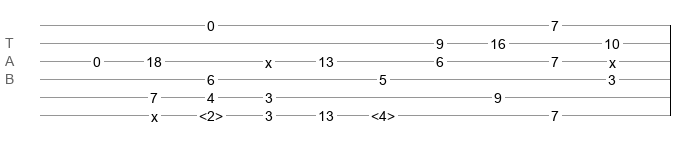0: (93, 54, 101, 64), (207, 18, 215, 28)
10: (604, 36, 620, 46)
13: (318, 54, 334, 64), (318, 108, 334, 118)
16: (490, 36, 506, 46)
18: (146, 54, 162, 64)
3: (265, 90, 273, 100), (265, 108, 273, 118), (608, 72, 616, 82)
4: (207, 90, 215, 100)
5: (379, 72, 387, 82)
6: (207, 72, 215, 82), (436, 54, 444, 64)
7: (150, 90, 158, 100), (551, 54, 559, 64), (551, 108, 559, 118), (551, 18, 559, 28)
9: (436, 36, 444, 46), (494, 90, 502, 100)
harmonic: (199, 108, 223, 118), (371, 108, 395, 118)
x: (151, 109, 158, 117), (265, 55, 272, 63), (609, 55, 616, 63)
